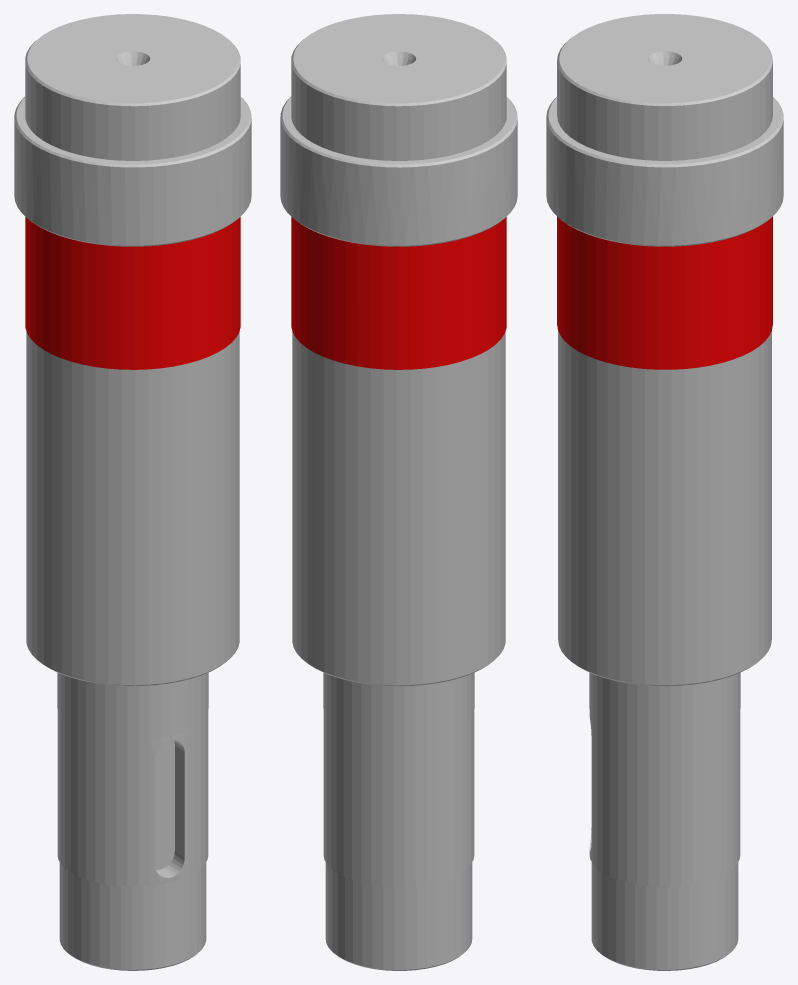
The model's file is 4_stp_10_11.obj.
3 views of the same model, side by side, from view 1: azimuth 30°, elevation 25°; view 2: azimuth 150°, elevation 25°; view 3: azimuth 270°, elevation 25° (orthographic).
Parts seen in each view (by area): view 1: Object1; view 2: Object1; view 3: Object1.
Boxes of the visible parts, bbox=[...] form: Object1: bbox=[14, 14, 251, 970]; Object1: bbox=[280, 14, 517, 970]; Object1: bbox=[546, 14, 783, 970].
Bounding box in the file's own units: 54.98 × 225 × 55.
